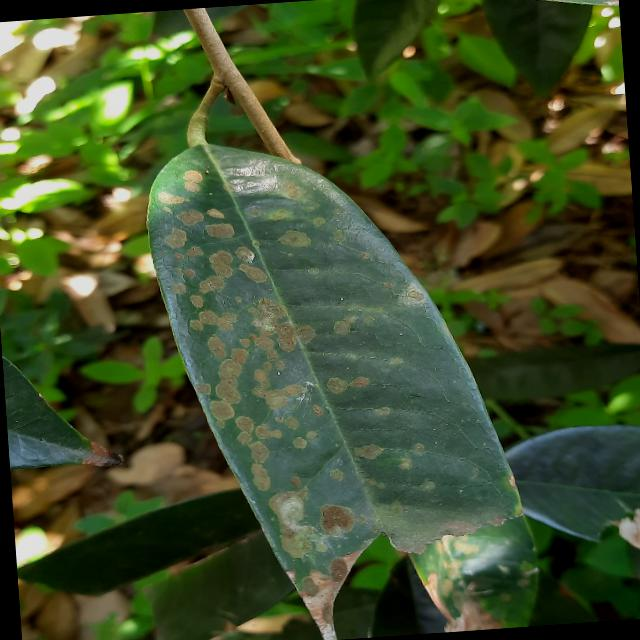Algal Leaf Spot: (127, 120, 536, 639)
